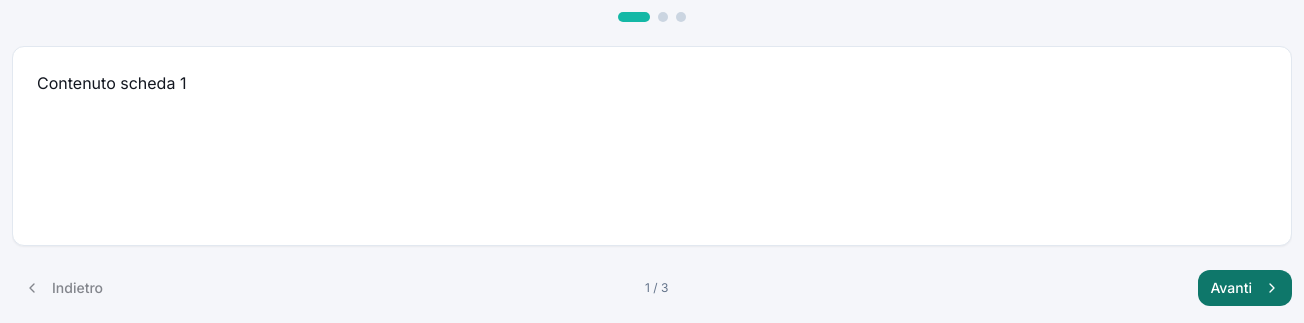
Test case: StoryCard › naviga con click su pallino
The width and height of the screenshot is (1304, 323).
Click the tab named "Scheda 3 di 3" at (681, 17), box [676, 12, 686, 22]
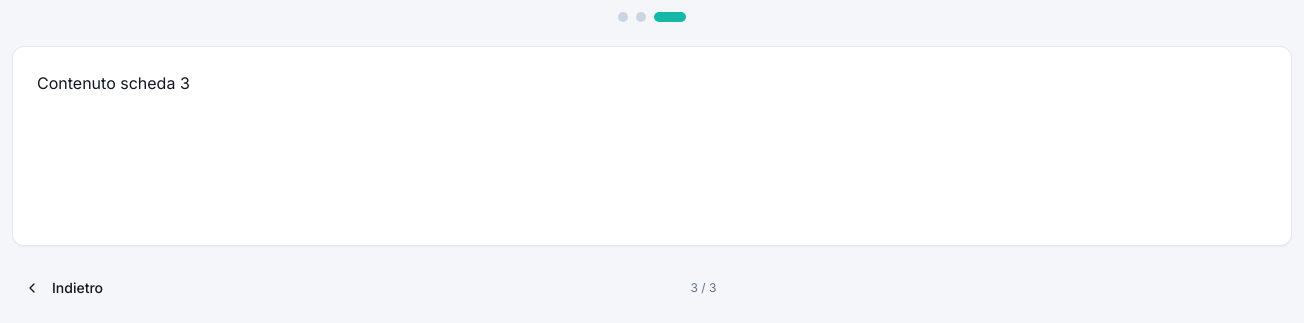
Result: the text "Contenuto scheda 3" is shown at [37, 73, 190, 93]
